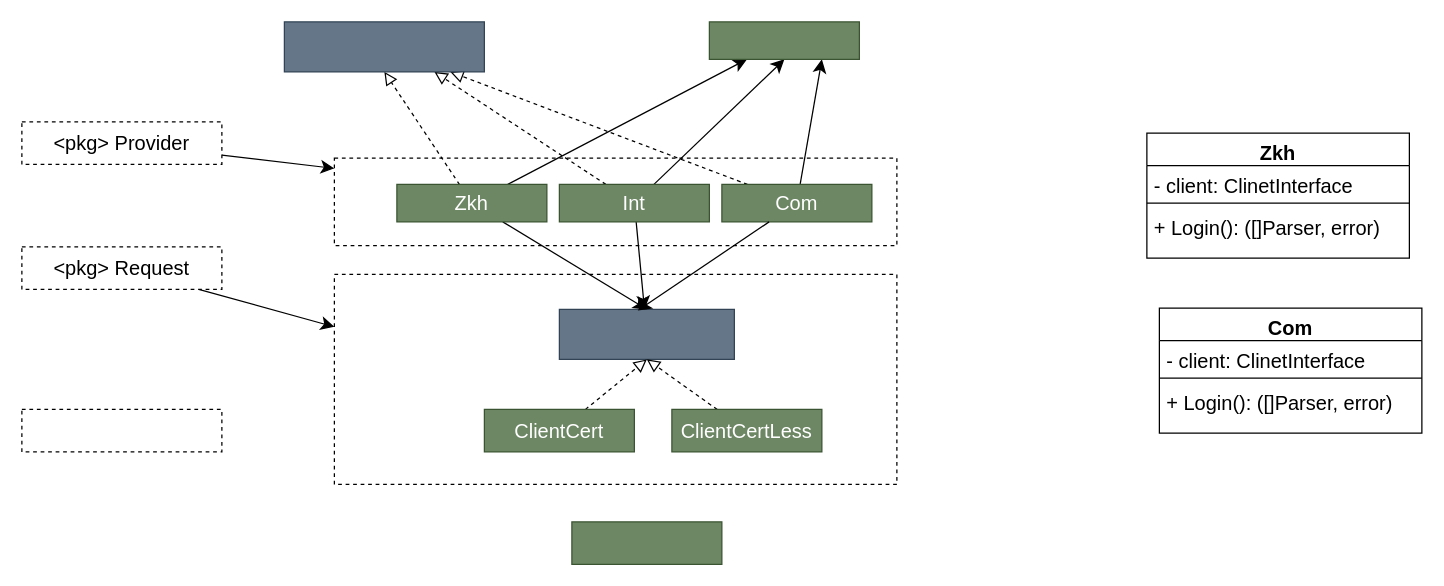
Some shapes in this 1444 by 586 pixel diagram are drawn without their labels. Here are the shapes that lost their labels. From the top down, the box of each, then its label:
(283, 21, 484, 72): ProviderInterface
(708, 21, 859, 59): Config
(558, 308, 734, 359): ClientInterface
(21, 408, 222, 452): <pkg> Bot
(571, 521, 722, 564): Parser
